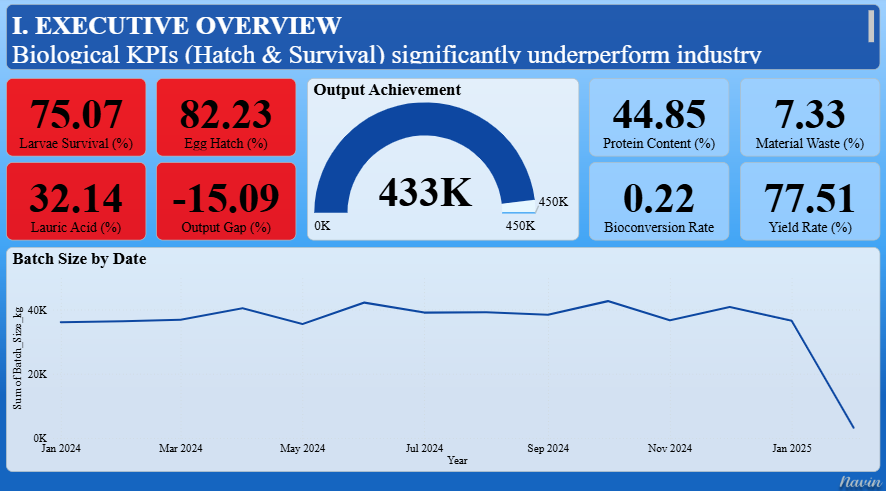

Layout of this report page (visuals, bound fields, positions):
{"tool":"powerbi","page":{"name":"I. EXECUTIVE OVERVIEW","canvas":[1280,720],"ordinal":0},"visuals":[{"type":"textbox","box":[10.2,10.2,1258.5,95.1],"z":0},{"type":"card","fields":{"Values":["Sum(Biological_Dataset_Simulated_cleaned.Output Gap)"]},"box":[225.4,237.6,202,112.7],"z":2000},{"type":"card","fields":{"Values":["Biological_Dataset_Simulated_cleaned.%Raw Material Waste"]},"box":[1066.8,116.2,202,112.7],"z":3000},{"type":"card","fields":{"Values":["Avg(Biological_Dataset_Simulated_cleaned.Protein_Content_%)"]},"box":[850.2,116.2,202,112.7],"z":4000},{"type":"card","fields":{"Values":["Avg(Biological_Dataset_Simulated_cleaned.Lauric_Acid_%)"]},"box":[10.2,237.6,202,112.7],"z":5000},{"type":"card","fields":{"Values":["Avg(Biological_Dataset_Simulated_cleaned.Egg_Hatch_Rate_%)"]},"box":[225.4,116.2,202,112.7],"z":6000},{"type":"card","fields":{"Values":["Avg(Biological_Dataset_Simulated_cleaned.Larvae_Survival_Rate_%)"]},"box":[10.2,116.2,202,112.7],"z":7000},{"type":"card","fields":{"Values":["Avg(Biological_Dataset_Simulated_cleaned.Bioconversion_Rate)"]},"box":[850.2,237.6,202,112.7],"z":8000},{"type":"card","fields":{"Values":["Avg(Biological_Dataset_Simulated_cleaned.Yield_Rate_%)"]},"box":[1066.8,237.6,202,112.7],"z":9000},{"type":"lineChart","title":"Batch Size by Date","fields":{"Y":["Sum(Biological_Dataset_Simulated_cleaned.Batch_Size_kg)"],"Category":["Biological_Dataset_Simulated_cleaned.Date.Variation.Date Hierarchy.Year","Biological_Dataset_Simulated_cleaned.Date.Variation.Date Hierarchy.Quarter","Biological_Dataset_Simulated_cleaned.Date.Variation.Date Hierarchy.Month"]},"box":[10.2,360,1258.5,342.4],"z":10000},{"type":"gauge","title":"Output Achievement","fields":{"Y":["Sum(Biological_Dataset_Simulated_cleaned.Actual_Output_kg)"],"TargetValue":["Sum(Biological_Dataset_Simulated_cleaned.Planned_Output_kg)"],"MaxValue":["Sum(Biological_Dataset_Simulated_cleaned.Planned_Output_kg)"]},"box":[443.4,116.2,392.2,234.1],"z":11000}]}

Visuals, with their boxes in screenshot pixels (x1, y1, x2, y2), scaled from the page's 1280x720 canvas onto the 886x491 screenshot:
textbox: x1=7 y1=7 x2=878 y2=72
card - Sum(Biological_Dataset_Simulated_cleaned.Output Gap): x1=156 y1=162 x2=296 y2=239
card - Biological_Dataset_Simulated_cleaned.%Raw Material Waste: x1=738 y1=79 x2=878 y2=156
card - Avg(Biological_Dataset_Simulated_cleaned.Protein_Content_%): x1=588 y1=79 x2=728 y2=156
card - Avg(Biological_Dataset_Simulated_cleaned.Lauric_Acid_%): x1=7 y1=162 x2=147 y2=239
card - Avg(Biological_Dataset_Simulated_cleaned.Egg_Hatch_Rate_%): x1=156 y1=79 x2=296 y2=156
card - Avg(Biological_Dataset_Simulated_cleaned.Larvae_Survival_Rate_%): x1=7 y1=79 x2=147 y2=156
card - Avg(Biological_Dataset_Simulated_cleaned.Bioconversion_Rate): x1=588 y1=162 x2=728 y2=239
card - Avg(Biological_Dataset_Simulated_cleaned.Yield_Rate_%): x1=738 y1=162 x2=878 y2=239
"Batch Size by Date" lineChart: x1=7 y1=246 x2=878 y2=479
"Output Achievement" gauge: x1=307 y1=79 x2=578 y2=239
